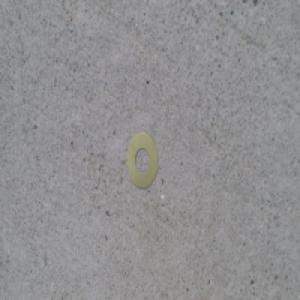Washer: (126, 133, 159, 191)
